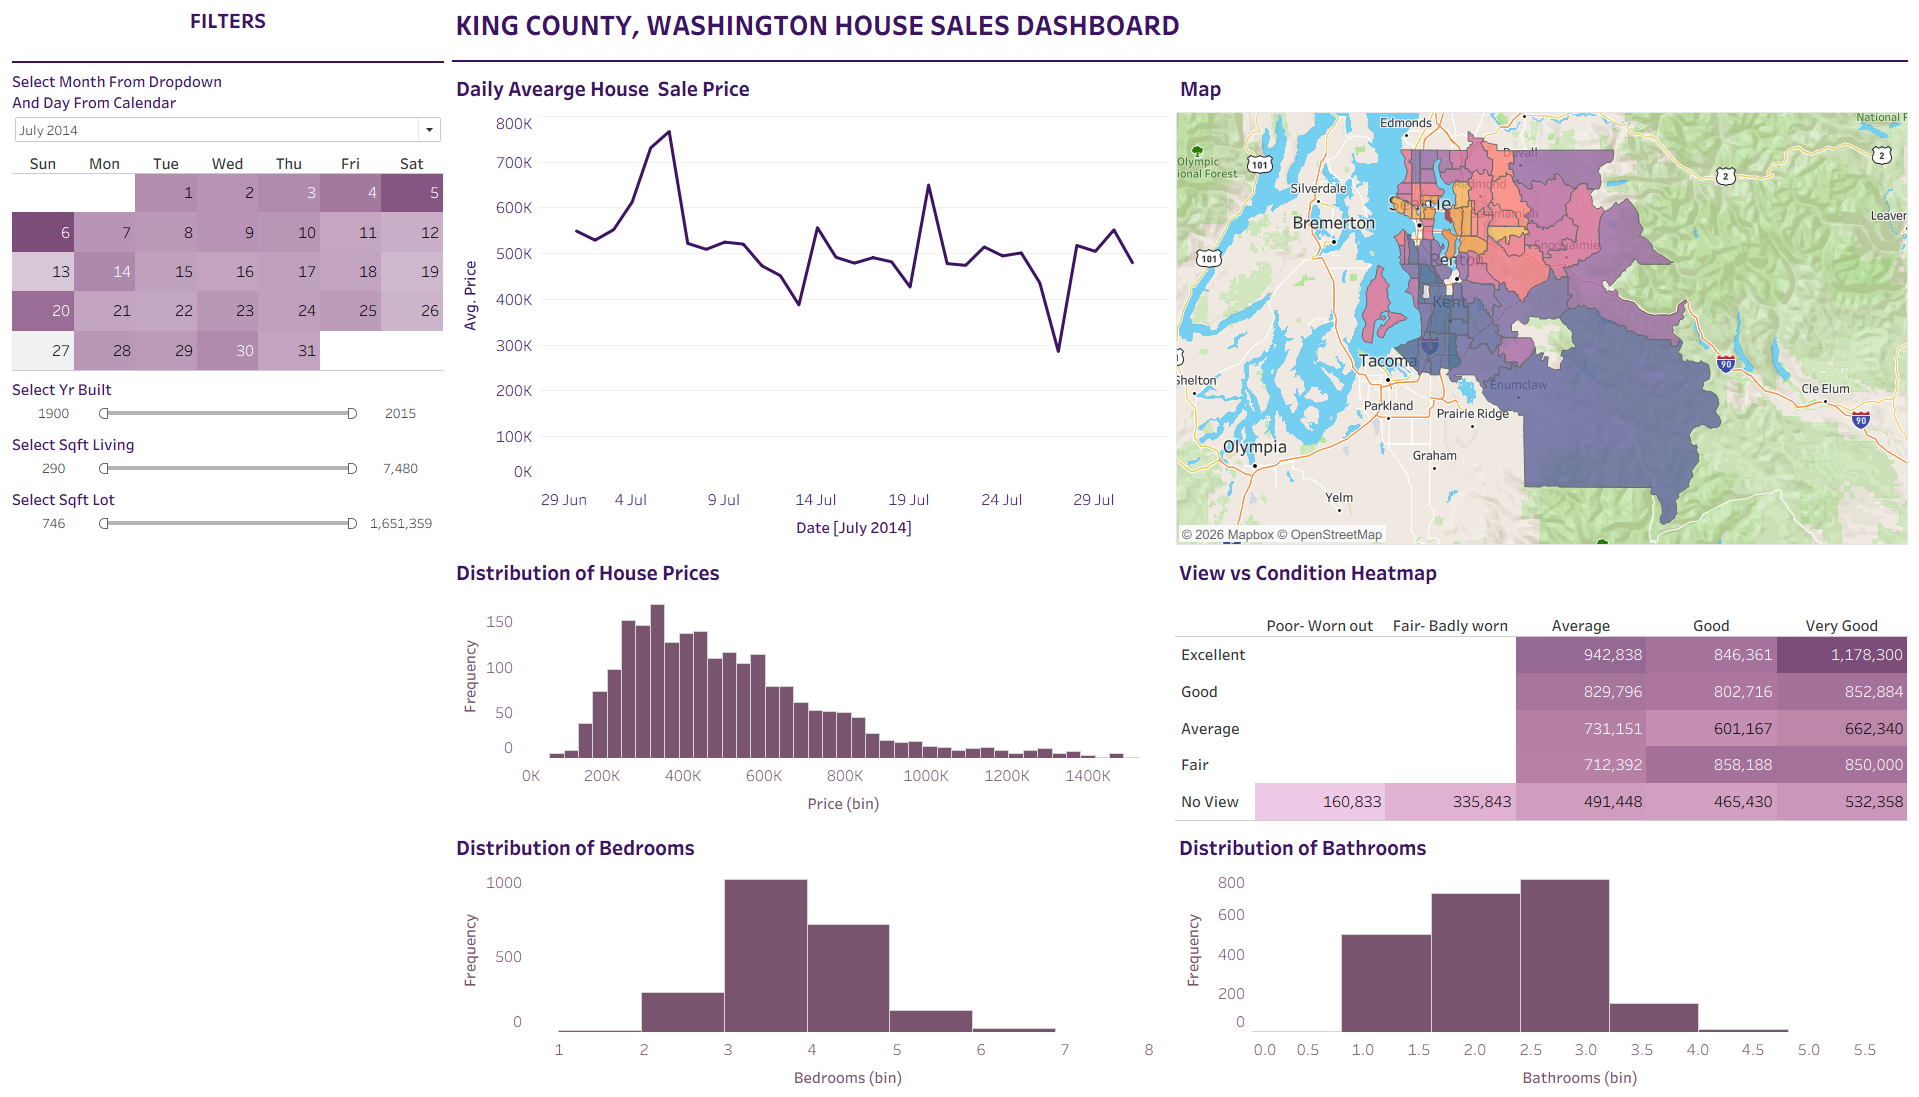

The page's visual inventory and layout, read from the dashboard file:
{"tool":"tableau","page":{"name":"KingCountyHouseSalesDashboard","canvas":[1000,1000],"units":"permille","ordinal":0},"visuals":[{"type":"text","box":[4.8,8.7,228.7,38]},{"type":"text","box":[233.6,8.7,761.6,48.8]},{"type":"blank","box":[233.6,57.5,761.6,10.9]},{"type":"blank","box":[4.8,57.6,228.7,10.9]},{"type":"filter","title":"Calendar","param":"[federated.15cl23k0on216i1fiawh91s3xi3e].[my:date:ok]","box":[4.8,68.4,228.7,89]},{"type":"worksheet","title":"Line Chart","mark":"Automatic","rows":["price"],"cols":["date"],"box":[233.6,68.4,376.3,431.1]},{"type":"worksheet","title":"Map","mark":"Automatic","box":[609.8,68.4,385.3,431.1]},{"type":"worksheet","title":"Calendar","mark":"Square","rows":["date"],"cols":["date"],"box":[4.8,157.5,228.7,245.4]},{"type":"filter","title":"Calendar","param":"[federated.15cl23k0on216i1fiawh91s3xi3e].[none:yr_built:qk]","box":[4.8,402.8,228.7,59.7]},{"type":"filter","title":"Calendar","param":"[federated.15cl23k0on216i1fiawh91s3xi3e].[none:sqft_living:qk]","box":[4.8,462.6,228.7,59.7]},{"type":"worksheet","title":"HistHousePrice","mark":"Automatic","rows":["price"],"cols":["Price (bin)"],"box":[233.6,499.5,376,246.2]},{"type":"worksheet","title":"Heatmap","mark":"Square","rows":["view"],"cols":["condition"],"box":[609.5,499.5,385.6,246.2]},{"type":"filter","title":"Calendar","param":"[federated.15cl23k0on216i1fiawh91s3xi3e].[none:sqft_lot:qk]","box":[4.8,522.3,228.7,59.7]},{"type":"worksheet","title":"HistBedrooms","mark":"Automatic","rows":["bedrooms"],"cols":["Bedrooms (bin)"],"box":[233.6,745.7,376,245.7]},{"type":"worksheet","title":"HistBathrooms","mark":"Automatic","rows":["bathrooms"],"cols":["Bathrooms (bin)"],"box":[609.5,745.7,385.6,245.7]}]}

Visuals, with their boxes on the dashboard's canvas, which has no fixed pixel size, in thousandths of its width and height (x1, y1, x2, y2). These are canvas units, not pixel positions in the 1919x1097 screenshot, which may show the page scaled, cropped or inside an application window:
text: left=5, top=9, right=234, bottom=47
text: left=234, top=9, right=995, bottom=58
blank: left=234, top=58, right=995, bottom=68
blank: left=5, top=58, right=234, bottom=68
"Calendar" filter: left=5, top=68, right=234, bottom=157
"Line Chart" worksheet: left=234, top=68, right=610, bottom=500
"Map" worksheet: left=610, top=68, right=995, bottom=500
"Calendar" worksheet (Square marks): left=5, top=158, right=234, bottom=403
"Calendar" filter: left=5, top=403, right=234, bottom=462
"Calendar" filter: left=5, top=463, right=234, bottom=522
"HistHousePrice" worksheet: left=234, top=500, right=610, bottom=746
"Heatmap" worksheet (Square marks): left=610, top=500, right=995, bottom=746
"Calendar" filter: left=5, top=522, right=234, bottom=582
"HistBedrooms" worksheet: left=234, top=746, right=610, bottom=991
"HistBathrooms" worksheet: left=610, top=746, right=995, bottom=991
